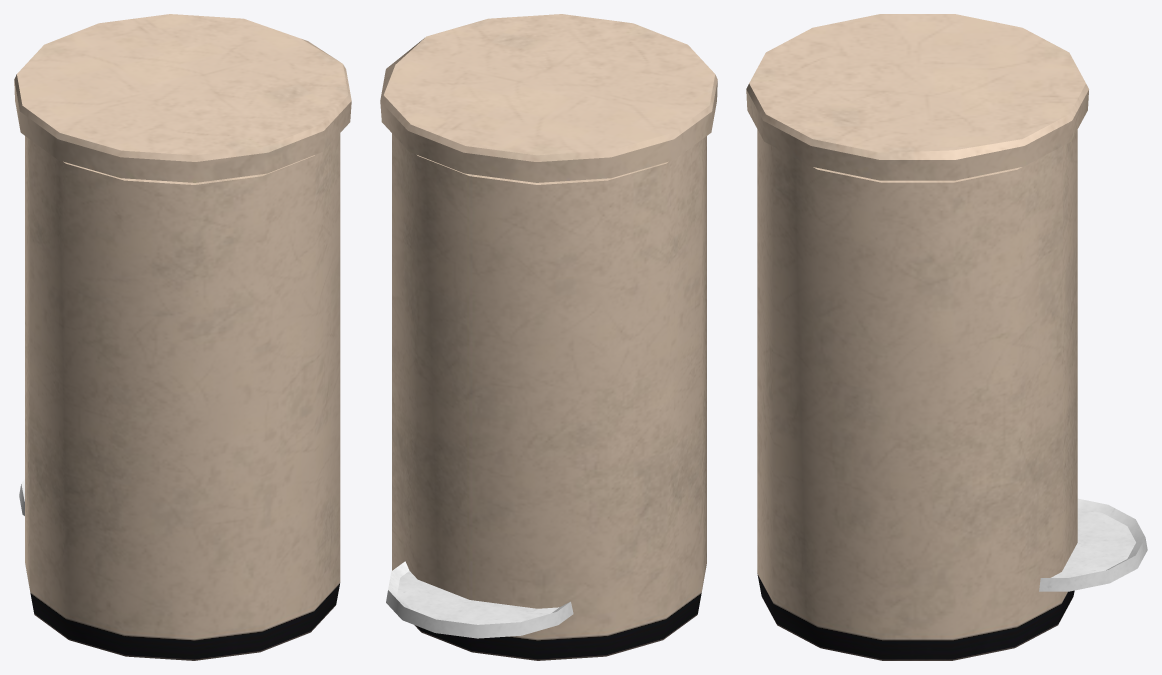
Rendered from Bin 02.fbx.
The picture shows the model from 3 angles, left to right: view 1: azimuth 30°, elevation 25°; view 2: azimuth 150°, elevation 25°; view 3: azimuth 270°, elevation 25°; orthographic projection.
Visible parts, largest first — view 1: prop_Bdr_Bin_02; view 2: prop_Bdr_Bin_02; view 3: prop_Bdr_Bin_02.
Part boxes in pixels (bbox=[...]): prop_Bdr_Bin_02: bbox=[14, 14, 351, 660]; prop_Bdr_Bin_02: bbox=[380, 14, 717, 660]; prop_Bdr_Bin_02: bbox=[746, 14, 1147, 660].
Bounding box in the file's own units: 0.1718 × 0.291 × 0.2063.
